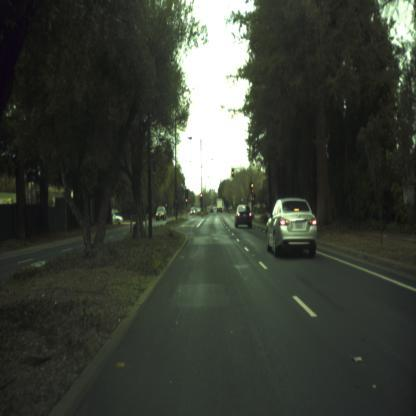Red: (250, 181, 253, 193), (185, 198, 188, 208), (231, 167, 234, 176)
RedLeft: (200, 192, 202, 206)
